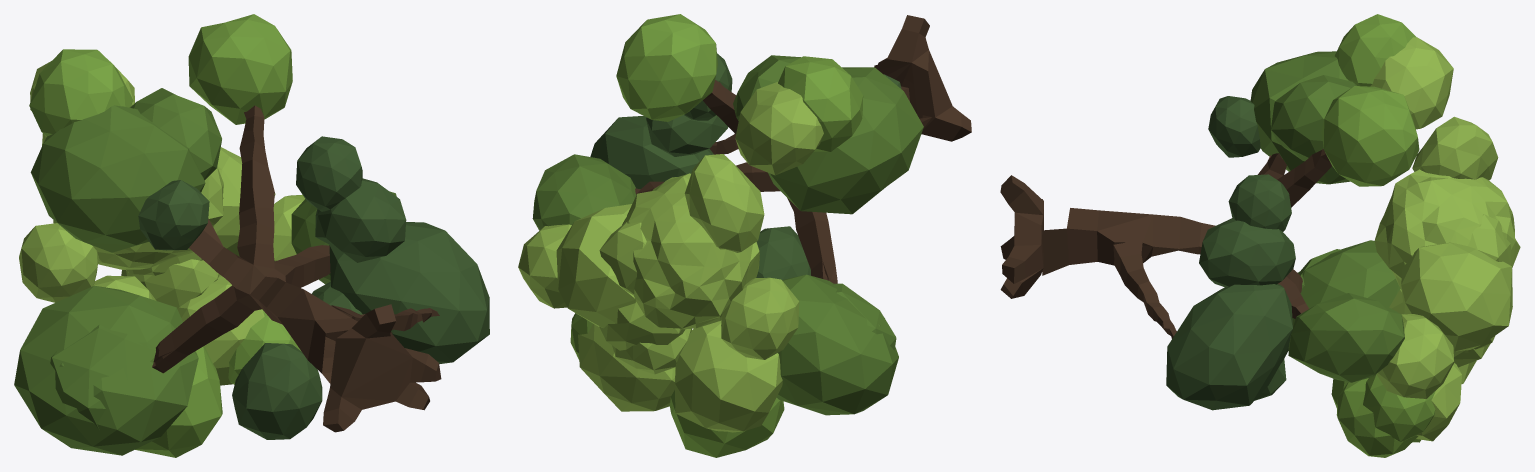
File: TreeOakGreenB5.fbx
3 views of the same model, side by side, from view 1: azimuth 30°, elevation 25°; view 2: azimuth 150°, elevation 25°; view 3: azimuth 270°, elevation 25° (orthographic). The views are drawn at different scales.
Visible parts, largest first — view 1: M_Tree_Leaf_Mid.001, M_Tree_Leaf_Dark.001, M_Tree_Bark.001, M_Tree_Leaf_Light.001, M_Tree_Leaf_Pale.001; view 2: M_Tree_Leaf_Pale.001, M_Tree_Leaf_Mid.001, M_Tree_Leaf_Light.001, M_Tree_Leaf_Dark.001, M_Tree_Bark.001; view 3: M_Tree_Leaf_Pale.001, M_Tree_Leaf_Dark.001, M_Tree_Leaf_Mid.001, M_Tree_Leaf_Light.001, M_Tree_Bark.001.
Part boxes in pixels (bbox=[...]): M_Tree_Leaf_Mid.001: bbox=[14, 88, 396, 455]; M_Tree_Leaf_Dark.001: bbox=[138, 136, 489, 439]; M_Tree_Bark.001: bbox=[152, 105, 441, 432]; M_Tree_Leaf_Light.001: bbox=[29, 14, 301, 457]; M_Tree_Leaf_Pale.001: bbox=[19, 61, 304, 385]; M_Tree_Leaf_Pale.001: bbox=[518, 82, 823, 432]; M_Tree_Leaf_Mid.001: bbox=[532, 55, 923, 415]; M_Tree_Leaf_Light.001: bbox=[570, 14, 863, 457]; M_Tree_Leaf_Dark.001: bbox=[590, 53, 901, 279]; M_Tree_Bark.001: bbox=[635, 15, 971, 283]; M_Tree_Leaf_Pale.001: bbox=[1370, 37, 1520, 441]; M_Tree_Leaf_Dark.001: bbox=[1166, 96, 1295, 410]; M_Tree_Leaf_Mid.001: bbox=[1250, 51, 1404, 382]; M_Tree_Leaf_Light.001: bbox=[1321, 14, 1435, 457]; M_Tree_Bark.001: bbox=[1000, 149, 1331, 338].
Bounding box in the file's own units: 2387 × 2500 × 3138.
